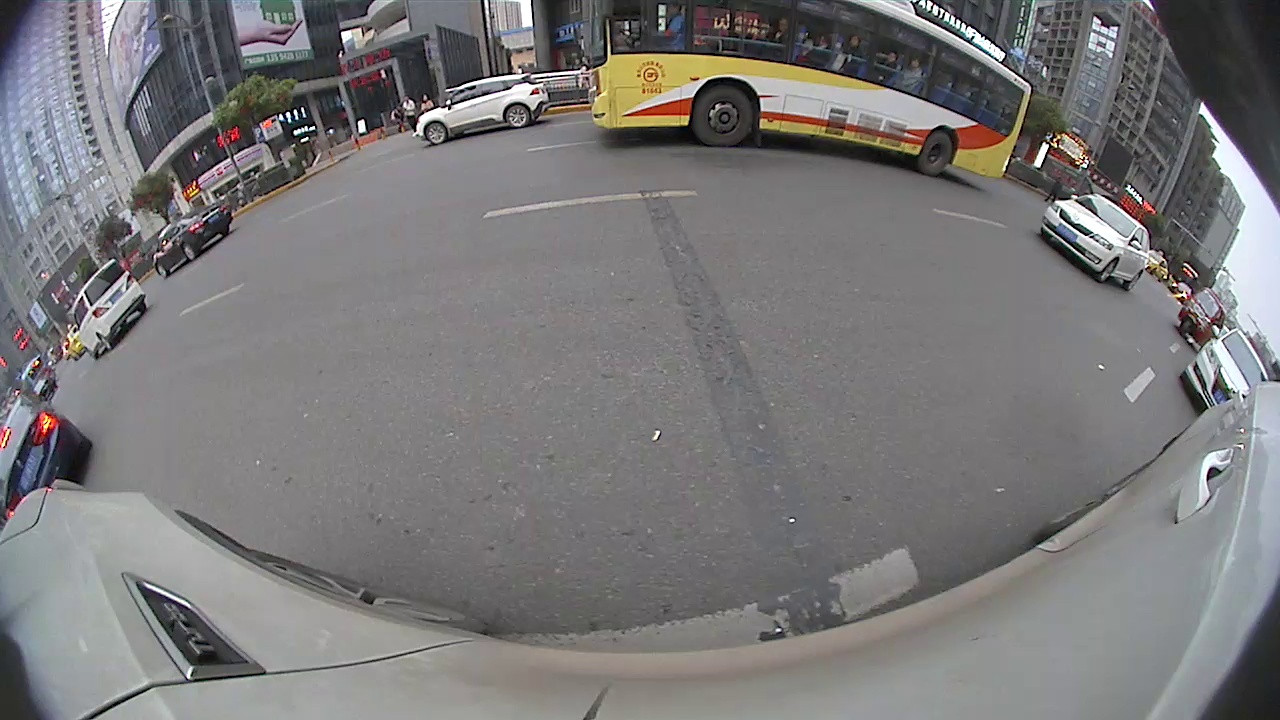bus: (582, 0, 1034, 188)
car: (1, 391, 96, 522), (1037, 189, 1154, 288), (413, 76, 550, 151), (1180, 322, 1274, 422), (64, 258, 151, 360), (151, 197, 234, 282)
front: (694, 82, 759, 149), (423, 120, 448, 147), (1096, 257, 1119, 286), (154, 262, 169, 280)
rear: (917, 128, 957, 177), (503, 103, 531, 130), (182, 243, 199, 260)
rider: (1178, 292, 1229, 351)
